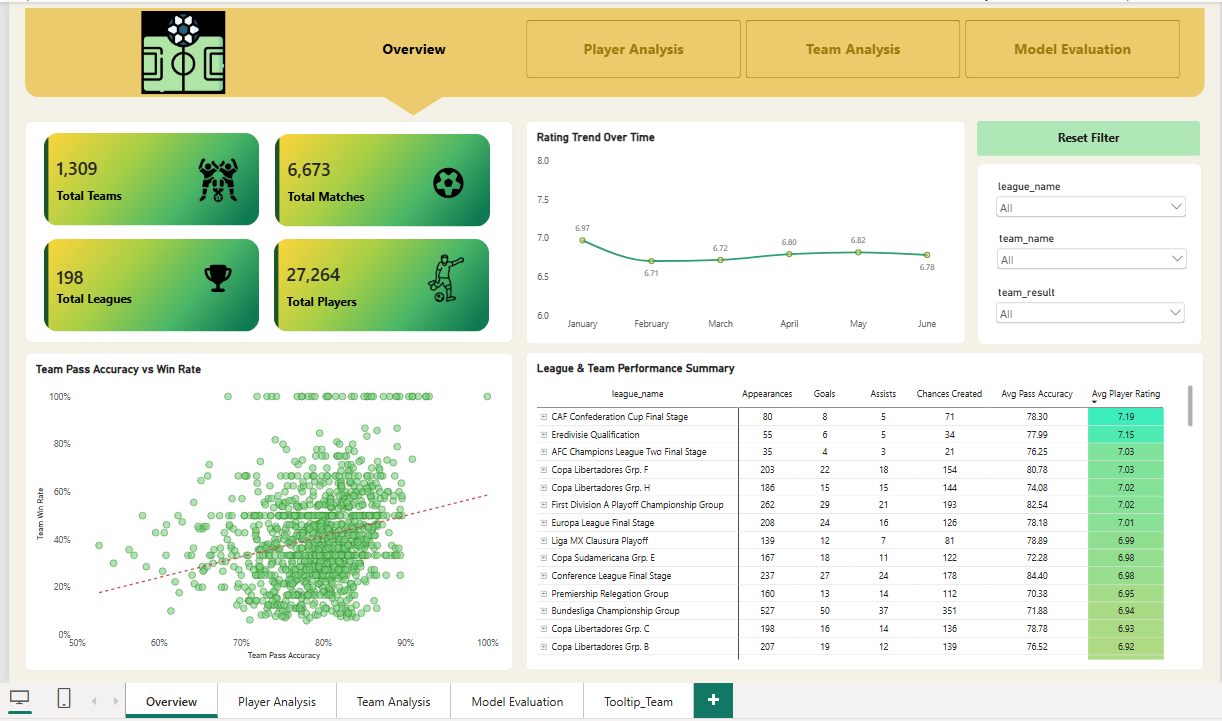

Layout of this report page (visuals, bound fields, positions):
{"tool":"powerbi","page":{"name":"Overview","canvas":[1920,1080],"ordinal":0},"visuals":[{"type":"shape","box":[592.9,116.7,99.3,63],"z":0,"group":"g4"},{"type":"shape","box":[26.1,189,774.3,351.8],"z":0},{"type":"shape","box":[1536.3,256.6,353.8,286.2],"z":0,"group":"g3"},{"type":"shape","box":[26.1,9.2,1871.2,141.5],"z":1000,"group":"g4"},{"type":"cardVisual","fields":{"Data":["Measures Table.Total Team"]},"box":[55.3,207.4,341.5,147.7],"z":1000},{"type":"slicer","fields":{"Values":["football_players_data.league_name"]},"box":[1559.4,282.8,310.8,67.7],"z":1000,"group":"g3"},{"type":"image","box":[139.3,13.8,276.9,132.3],"z":2000,"group":"g4"},{"type":"group","id":"g1","title":"Group 2","box":[421.5,209.2,341.5,147.7],"z":2000},{"type":"slicer","fields":{"Values":["football_players_data.team_result"]},"box":[1560.5,450.9,309.2,76.5],"z":2000,"group":"g3"},{"type":"pageNavigator","box":[473.2,28.8,1387.7,92.3],"z":3000,"group":"g4"},{"type":"cardVisual","fields":{"Data":["Measures Table.Total Players"]},"box":[420.9,376.4,341.5,147.7],"z":3000},{"type":"cardVisual","fields":{"Data":["Measures Table.Total Match"]},"box":[421.5,209.2,341.5,147],"z":4000,"group":"g1"},{"type":"cardVisual","fields":{"Data":["Measures Table.Total Leagues"]},"box":[55.3,376.4,341.5,147.7],"z":4000},{"type":"lineChart","title":"Rating Trend Over Time","fields":{"Category":["football_players_data.match_date.Variation.Date Hierarchy.Month"],"Y":["Measures Table.Ave Player Rating"]},"box":[820,189.2,696.9,353.8],"z":5000},{"type":"group","id":"g2","title":"Group 1","box":[26.1,9.2,1871.2,170.5],"z":6000},{"type":"slicer","fields":{"Values":["football_players_data.team_name"]},"box":[1561.9,364.9,310.8,73.7],"z":6000,"group":"g3"},{"type":"pivotTable","title":"League & Team Performance Summary","fields":{"Rows":["football_players_data.league_name","football_players_data.team_name","football_players_data.player_name"],"Values":["Measures Table.Total Appearances","Measures Table.Total Goals","Measures Table.Total Assists","Measures Table.Total Chances Created","Measures Table.Avg Pass Accuracy","Measures Table.Avg Player Rating"]},"box":[820,555.4,1075.4,504.6],"z":7000},{"type":"group","id":"g3","title":"Group 3","box":[1536.3,256.6,353.8,286.2],"z":8000},{"type":"actionButton","box":[1535.4,188.7,353.8,55.4],"z":9000},{"type":"group","id":"g4","title":"Group 4","box":[26.1,9.2,1871.2,170.5],"z":9003,"group":"g2"},{"type":"image","box":[304.2,408.6,53.8,58.4],"z":10000},{"type":"image","box":[662.1,256.6,67.6,59.9],"z":11000},{"type":"scatterChart","title":"Team Pass Accuracy vs Win Rate","fields":{"Category":["football_players_data.team_name"],"X":["Measures Table.Team Pass Accuracy %"],"Y":["Measures Table.Team Win Rate %"]},"box":[26.1,556.1,774.3,503.9],"z":12000},{"type":"image","box":[642.2,397.9,95.2,79.9],"z":13000},{"type":"image","box":[293.4,244.3,76.8,76.8],"z":14000}]}

Visuals, with their boxes on the page's 1920x1080 design canvas (x1, y1, x2, y2). These are canvas units, not pixel positions in the 1222x721 screenshot, which may show the page scaled, cropped or inside an application window:
shape: (593, 117, 692, 180)
shape: (26, 189, 800, 541)
shape: (1536, 257, 1890, 543)
shape: (26, 9, 1897, 151)
cardVisual - Measures Table.Total Team: (55, 207, 397, 355)
slicer - football_players_data.league_name: (1559, 283, 1870, 350)
image: (139, 14, 416, 146)
"Group 2" group: (422, 209, 763, 357)
slicer - football_players_data.team_result: (1560, 451, 1870, 527)
pageNavigator: (473, 29, 1861, 121)
cardVisual - Measures Table.Total Players: (421, 376, 762, 524)
cardVisual - Measures Table.Total Match: (422, 209, 763, 356)
cardVisual - Measures Table.Total Leagues: (55, 376, 397, 524)
"Rating Trend Over Time" lineChart: (820, 189, 1517, 543)
"Group 1" group: (26, 9, 1897, 180)
slicer - football_players_data.team_name: (1562, 365, 1873, 439)
"League & Team Performance Summary" pivotTable: (820, 555, 1895, 1060)
"Group 3" group: (1536, 257, 1890, 543)
actionButton: (1535, 189, 1889, 244)
"Group 4" group: (26, 9, 1897, 180)
image: (304, 409, 358, 467)
image: (662, 257, 730, 316)
"Team Pass Accuracy vs Win Rate" scatterChart: (26, 556, 800, 1060)
image: (642, 398, 737, 478)
image: (293, 244, 370, 321)
